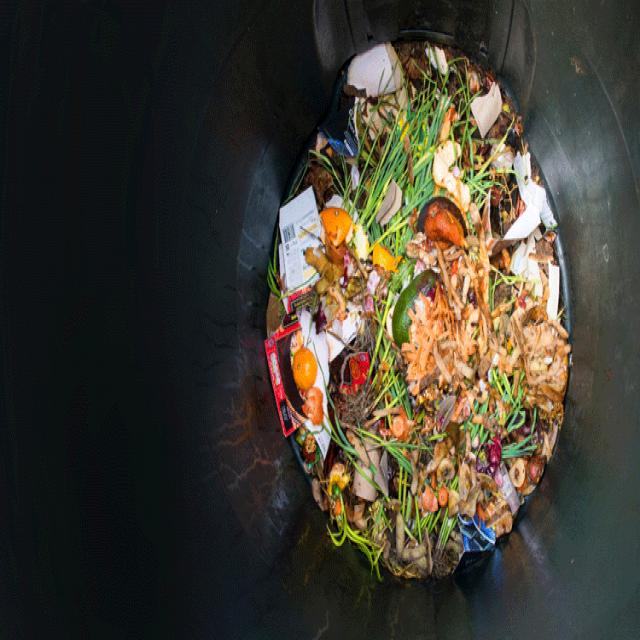food_waste: (309, 144, 535, 524)
